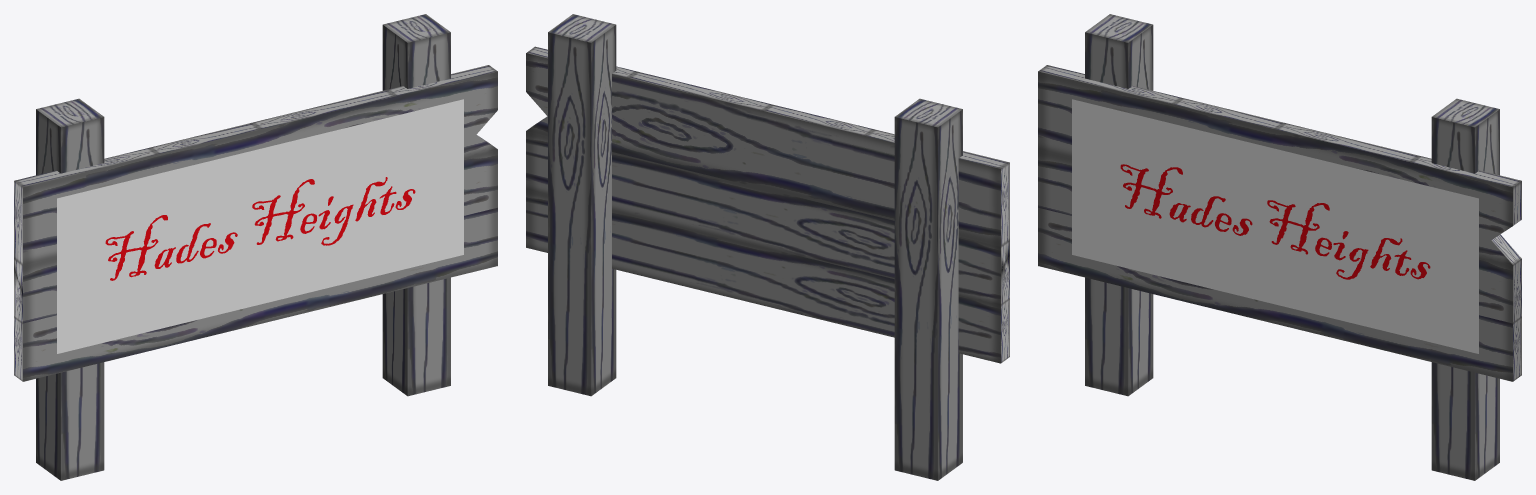
File: Neighborhood Sign 1.fbx
The picture shows the model from 3 angles, left to right: view 1: azimuth 30°, elevation 25°; view 2: azimuth 150°, elevation 25°; view 3: azimuth 330°, elevation 25°; orthographic projection.
Visible parts, largest first — view 1: Hades Heights SIGN, Hades Heights; view 2: Hades Heights SIGN; view 3: Hades Heights SIGN, Hades Heights.
Part boxes in pixels (x1,y1,x2,y2): Hades Heights SIGN: (14, 14, 497, 480); Hades Heights: (105, 177, 415, 280); Hades Heights SIGN: (526, 14, 1009, 480); Hades Heights SIGN: (1038, 14, 1521, 480); Hades Heights: (1120, 164, 1430, 279).
Size of the model in its own units: 0.5916 by 5.48 by 3.9.
